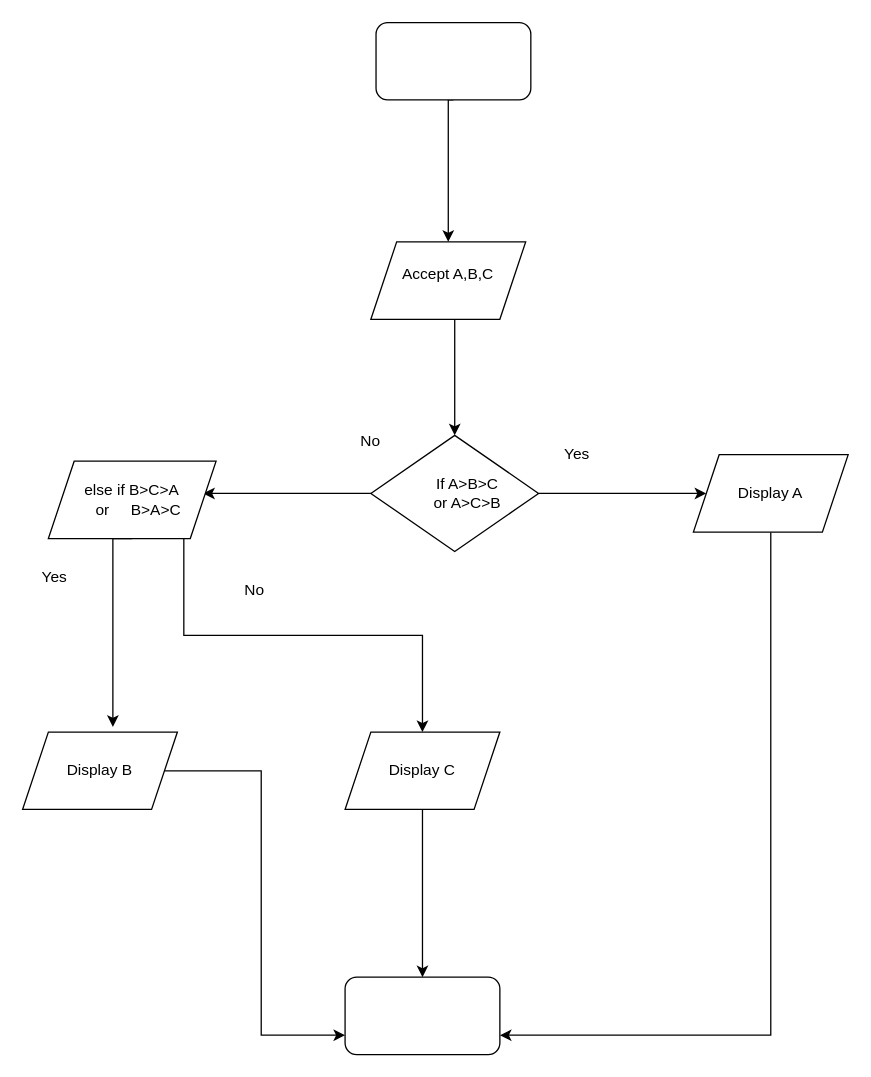
Some shapes in this 871 by 1077 pixel diagram are drawn without their labels. Each missing label, with the box of its shape:
End: (344, 976, 500, 1055)
Start: (375, 21, 531, 100)
